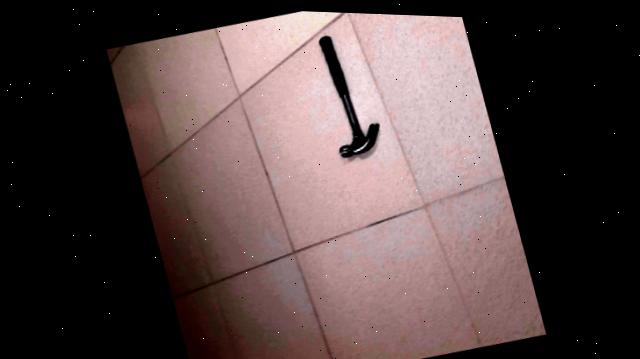hammer: (302, 23, 390, 164)
